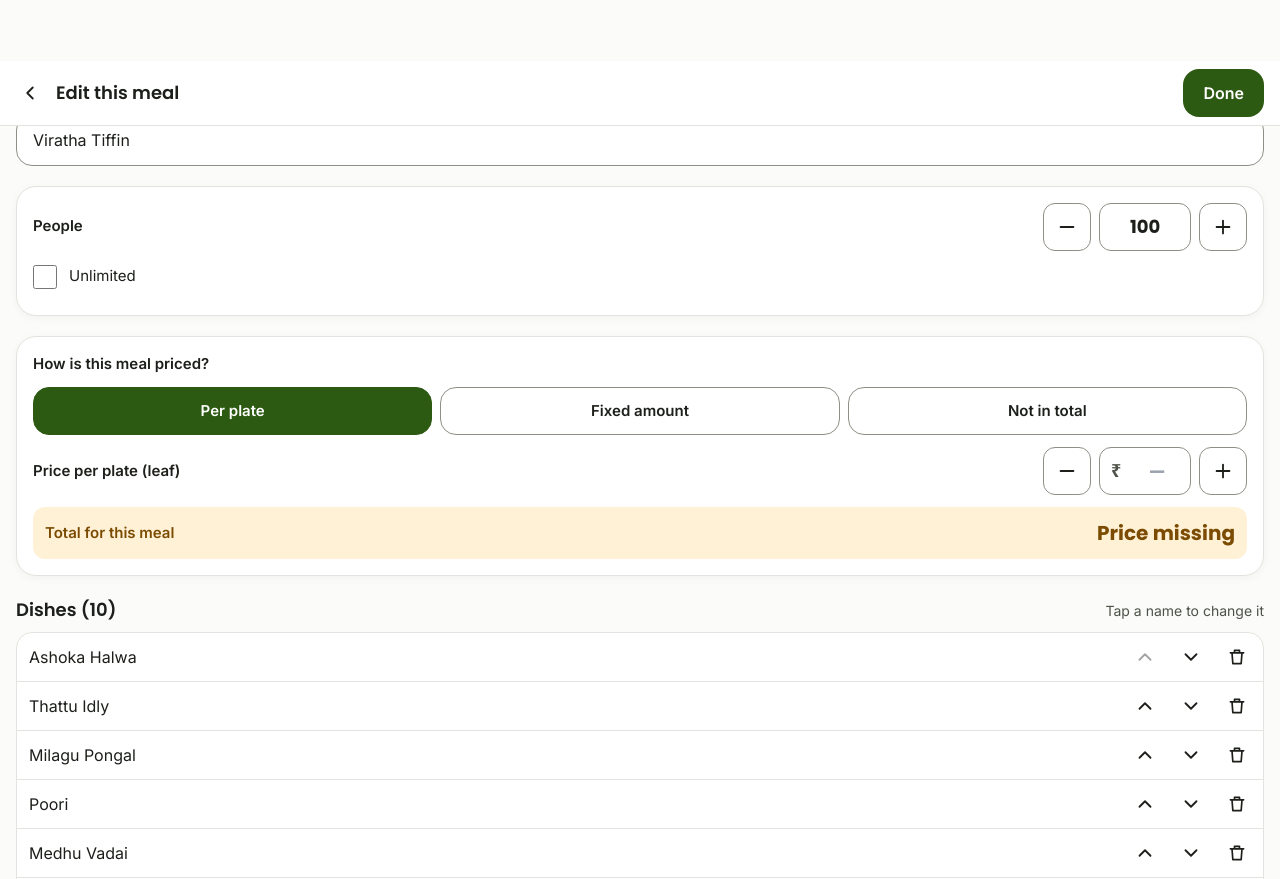
Scenario: Meal editor › shows Price missing until a price is typed
Check: the text with test id "session-total" reads "Price missing", box top-left (1097, 519), bottom-right (1235, 547)
Type "2" into the field labelled "Price per plate (leaf)".
click(1145, 471); type("2")  # box top-left (1099, 447), bottom-right (1191, 495)
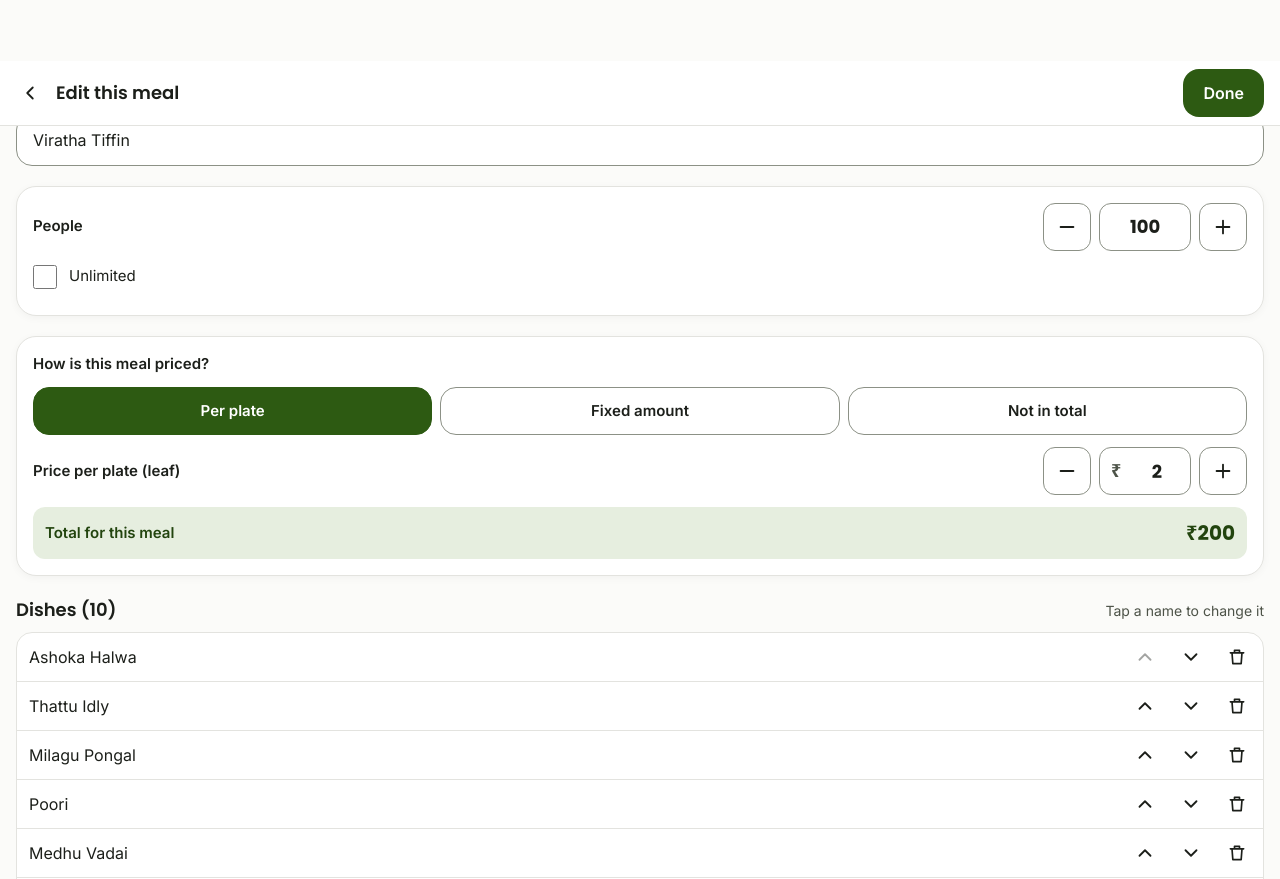
Replace the text in the field labelled "Price per plate (leaf)" with "23" at {"x": 1145, "y": 471}, box top-left (1099, 447), bottom-right (1191, 495)
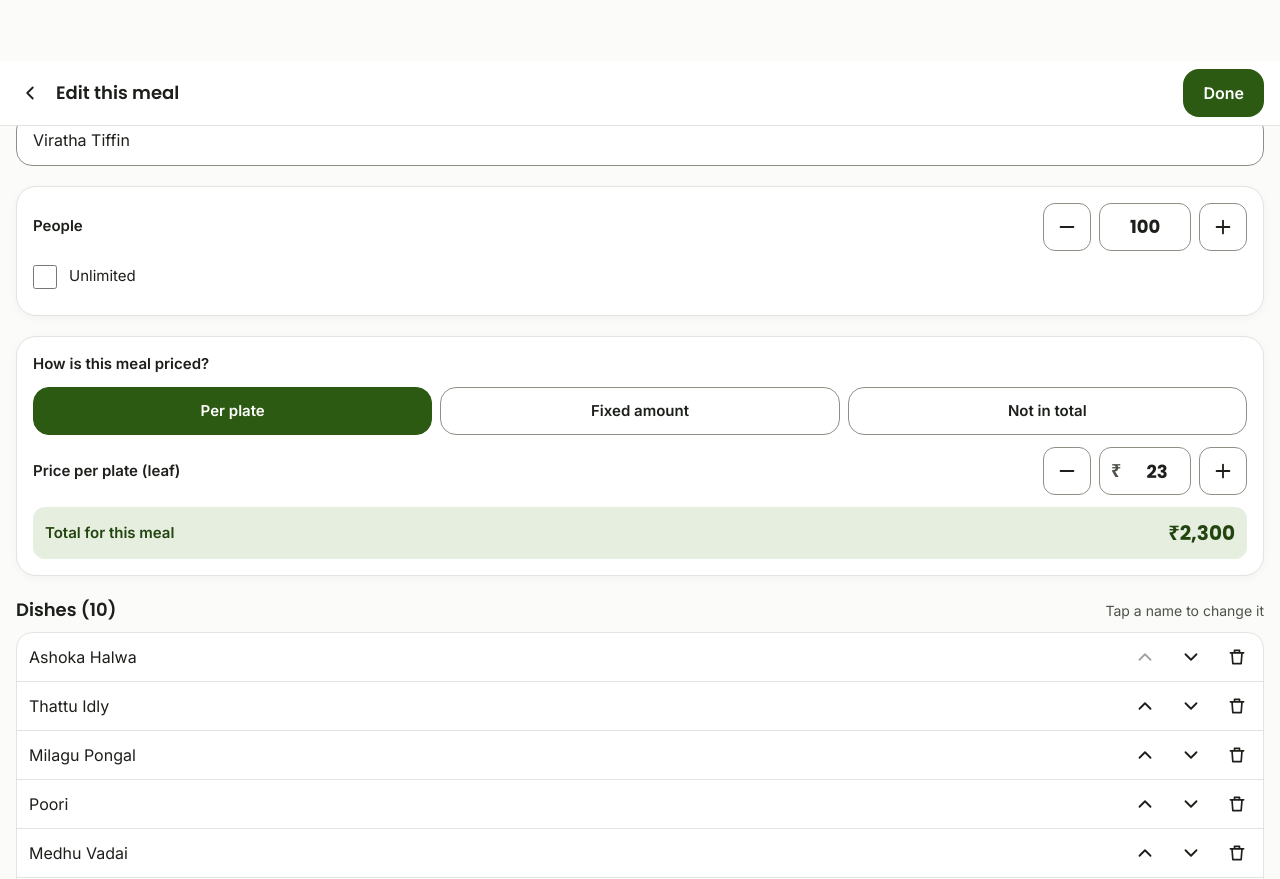
Replace the text in the field labelled "Price per plate (leaf)" with "237" at {"x": 1145, "y": 471}, box top-left (1099, 447), bottom-right (1191, 495)
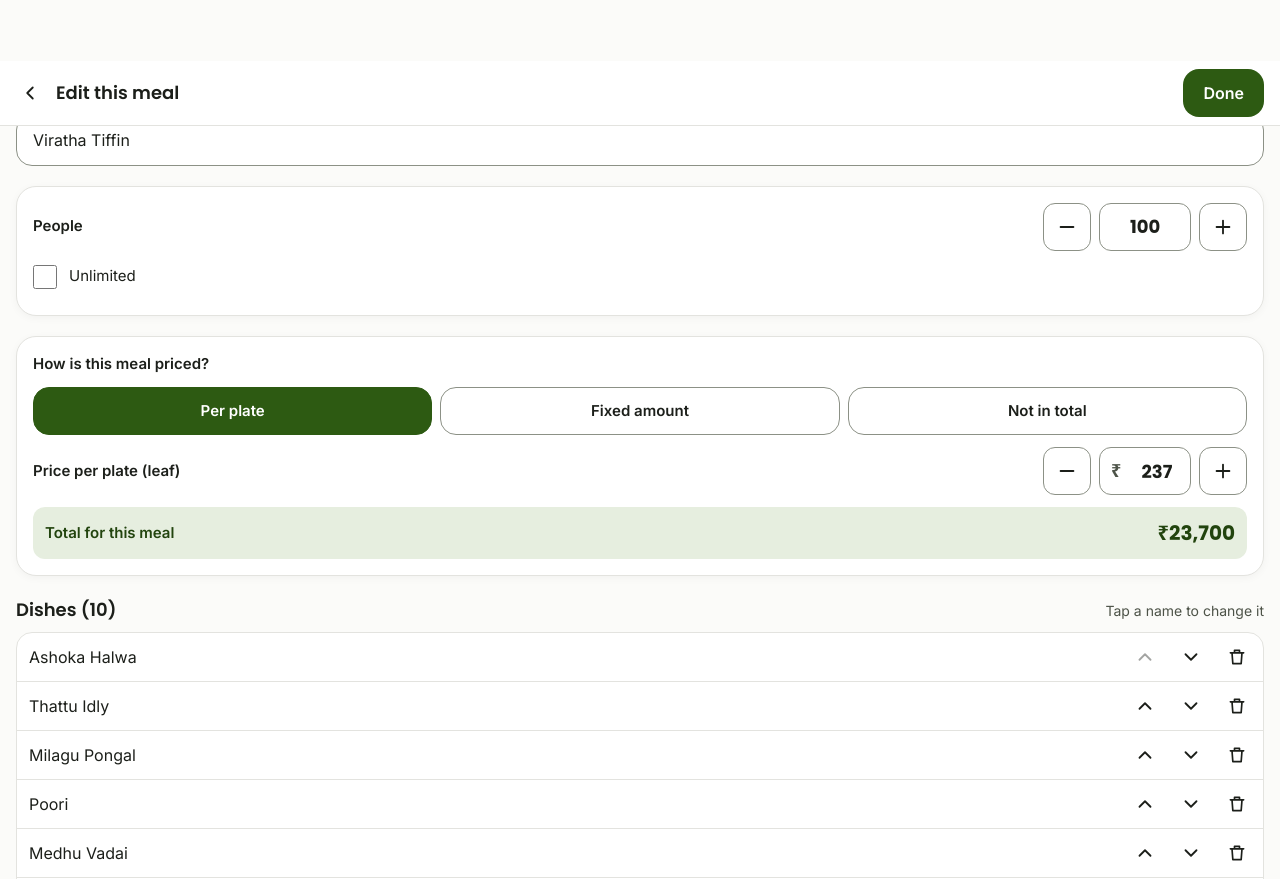
Check: the text with test id "session-total" reads "₹23,700", box top-left (1158, 519), bottom-right (1235, 547)
